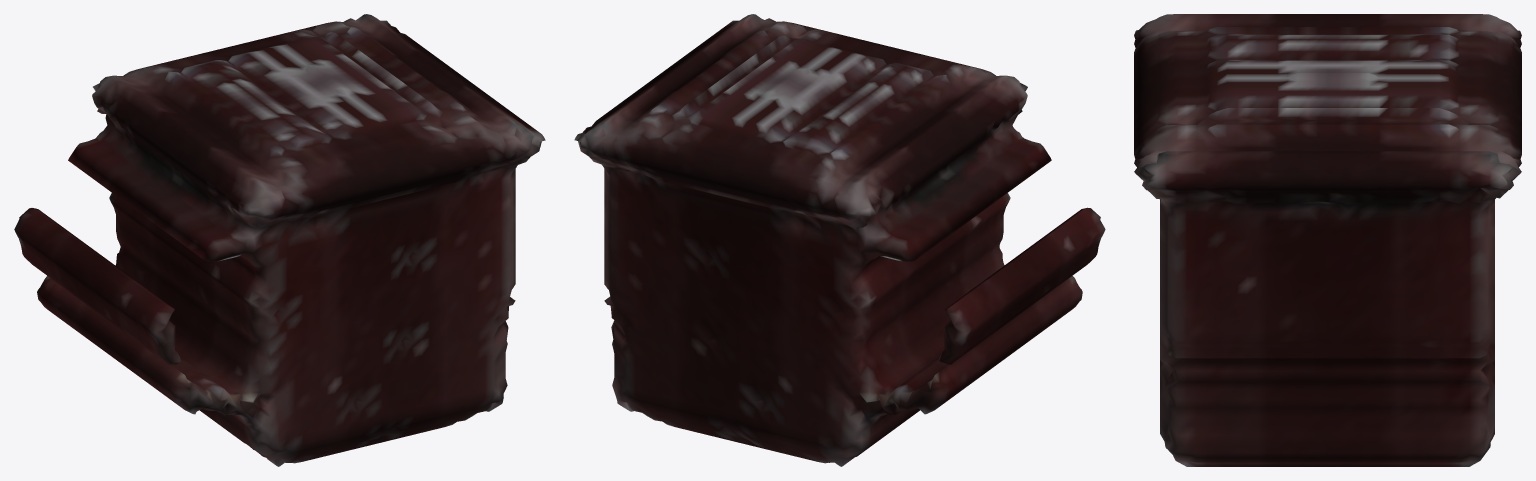
File: baseline.glb
3 renders of one model, left to right at view 1: azimuth 30°, elevation 25°; view 2: azimuth 150°, elevation 25°; view 3: azimuth 270°, elevation 25°, orthographic. The views are drawn at different scales.
Visible parts, largest first — view 1: YIIYA photo reconstruction; view 2: YIIYA photo reconstruction; view 3: YIIYA photo reconstruction.
Boxes of the visible parts, x1,y1,x2,y2 form: YIIYA photo reconstruction: [14, 14, 545, 466]; YIIYA photo reconstruction: [574, 14, 1105, 466]; YIIYA photo reconstruction: [1134, 14, 1521, 466].
Size of the model in its own units: 1.73 by 1.44 by 1.37.
